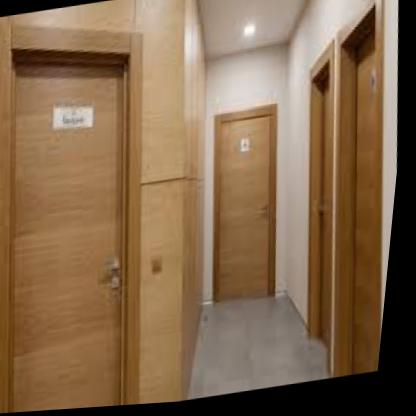Door: (0, 26, 146, 414), (340, 0, 382, 380), (218, 108, 282, 308), (313, 53, 334, 373)
